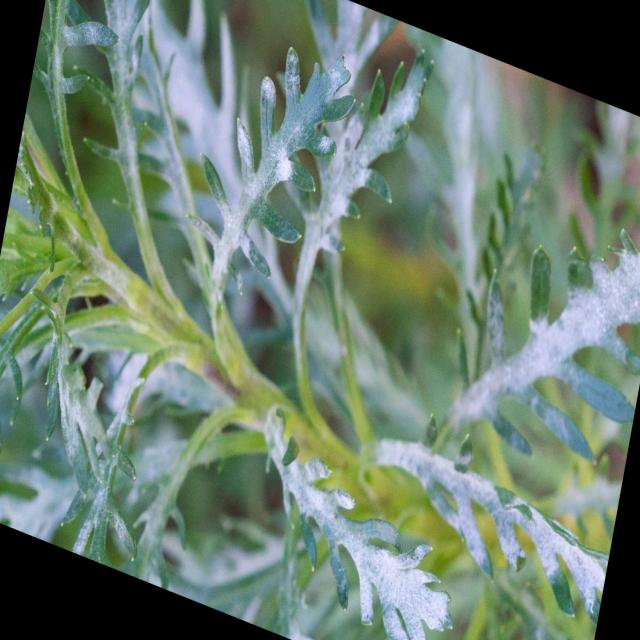Powdery Mildew: (263, 403, 453, 638), (185, 44, 356, 304), (448, 244, 638, 442)
